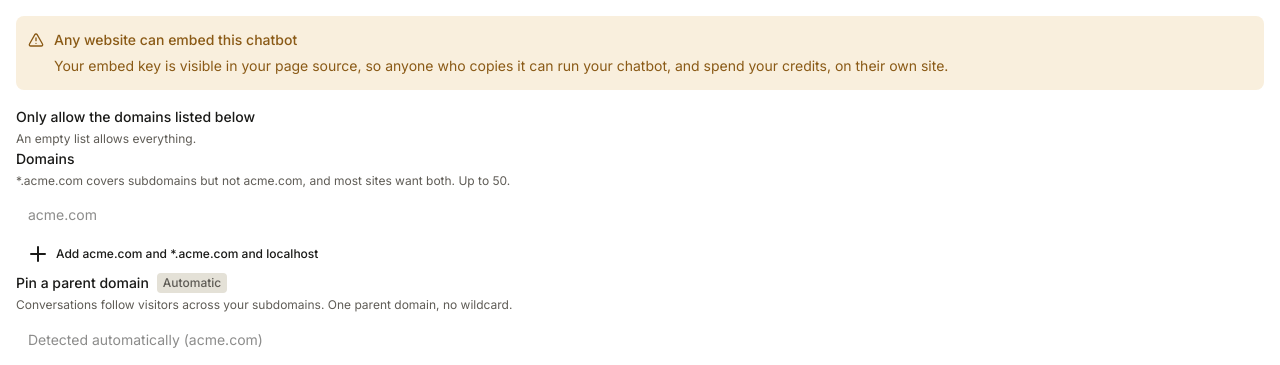
Test case: the allow-list › adds a domain from the keyboard and normalises it the way the server will
Type "https://WWW.Acme.com/pricing" into the field named "Domains" at coordinates (336, 215), box [22,204,650,226]
Then press Enter
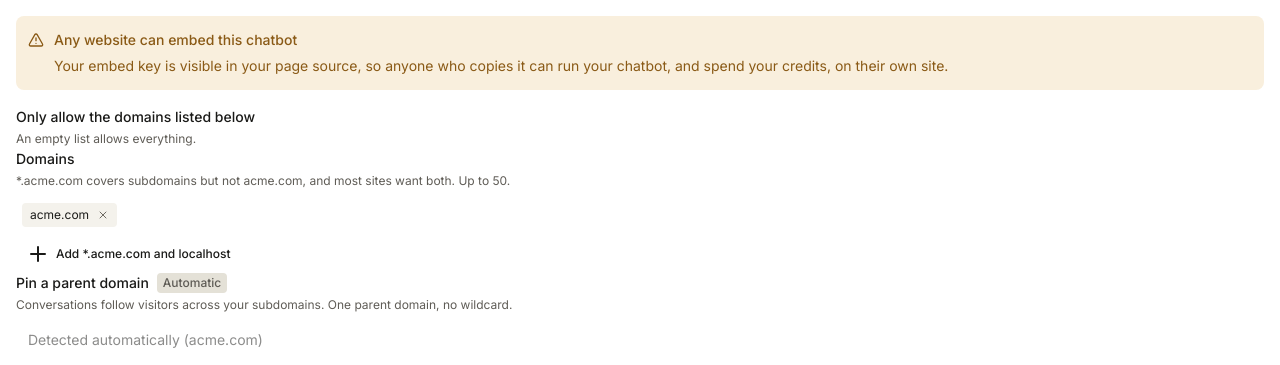
Expected: the button named "Remove acme.com" is shown, [93,205,113,225]
